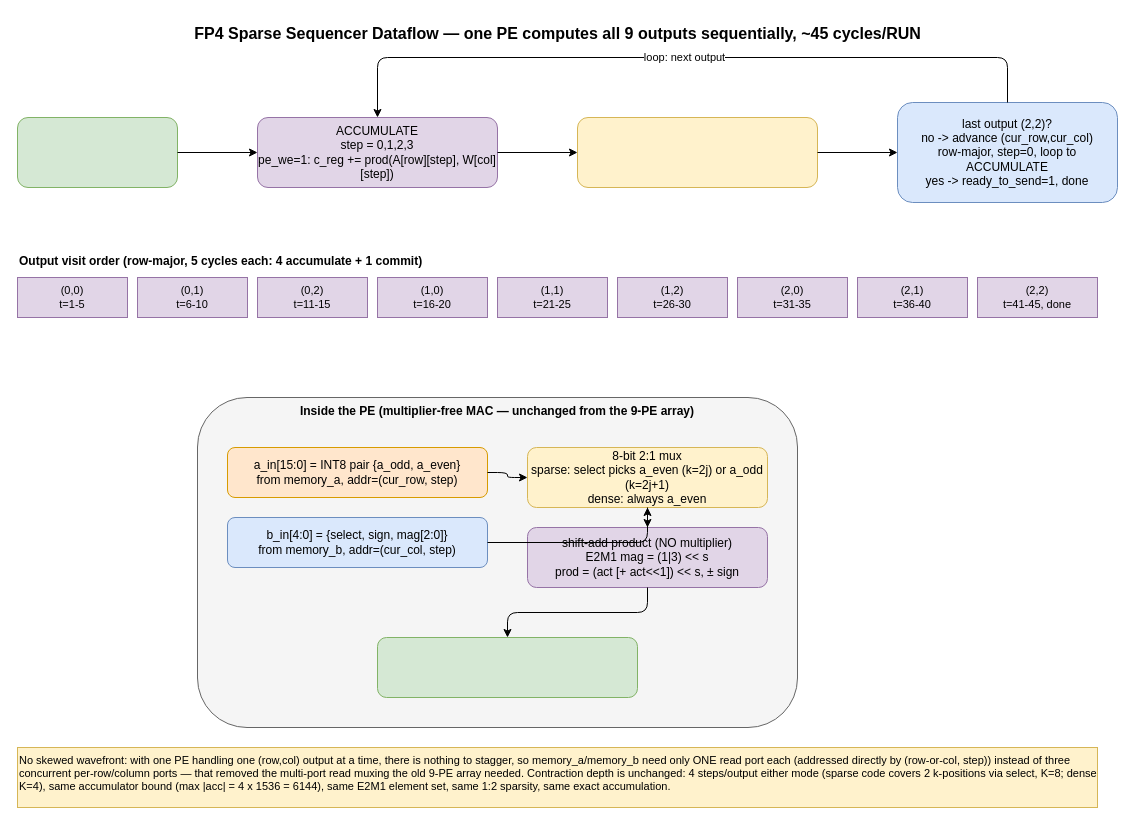
Image size: 1135x825. Some labels were removed from this diagram. Each missing label, with the centre of its shape:
"14-bit accumulator (exact: max |C| = 6144) cleared by pe_clr, one per output" belongs at point 507,667.
"COMMIT result_mem[cur_row][cur_col] <= c_reg pe_clr=1 (prep next output)" belongs at point 697,152.
"RUN issued cur_row=0, cur_col=0, step=0 pe_clr=1" belongs at point 97,152.
